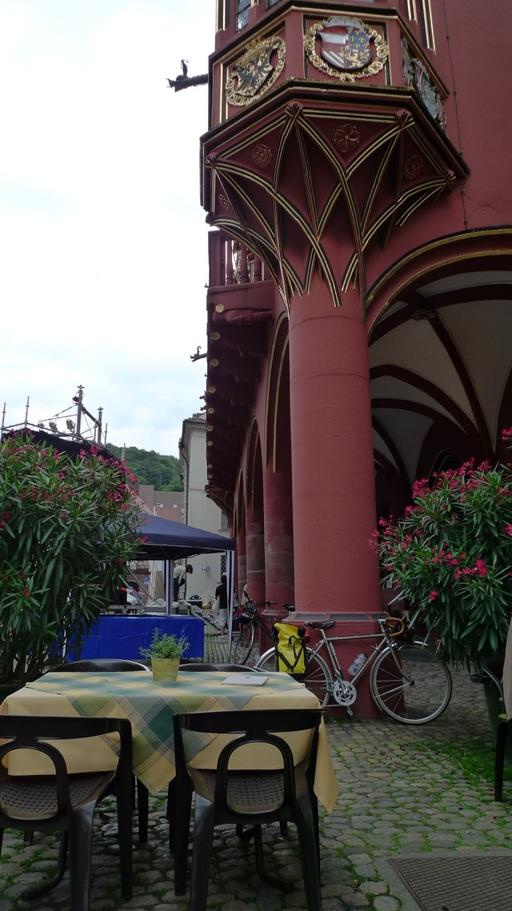non-vehicle: (252, 615, 454, 724), (234, 590, 295, 665)
